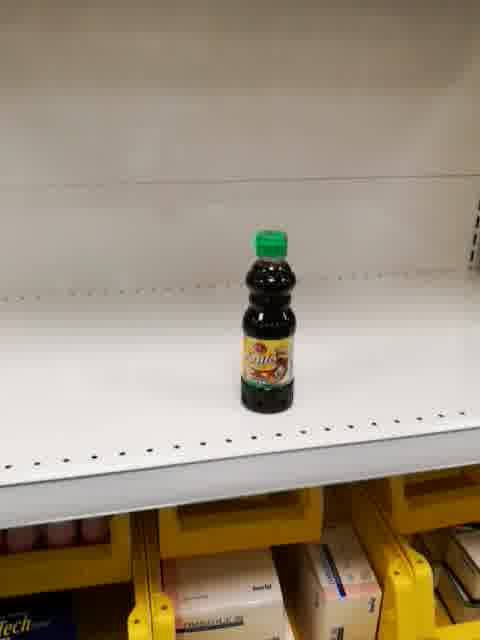cookingoil: (239, 226, 299, 418)
